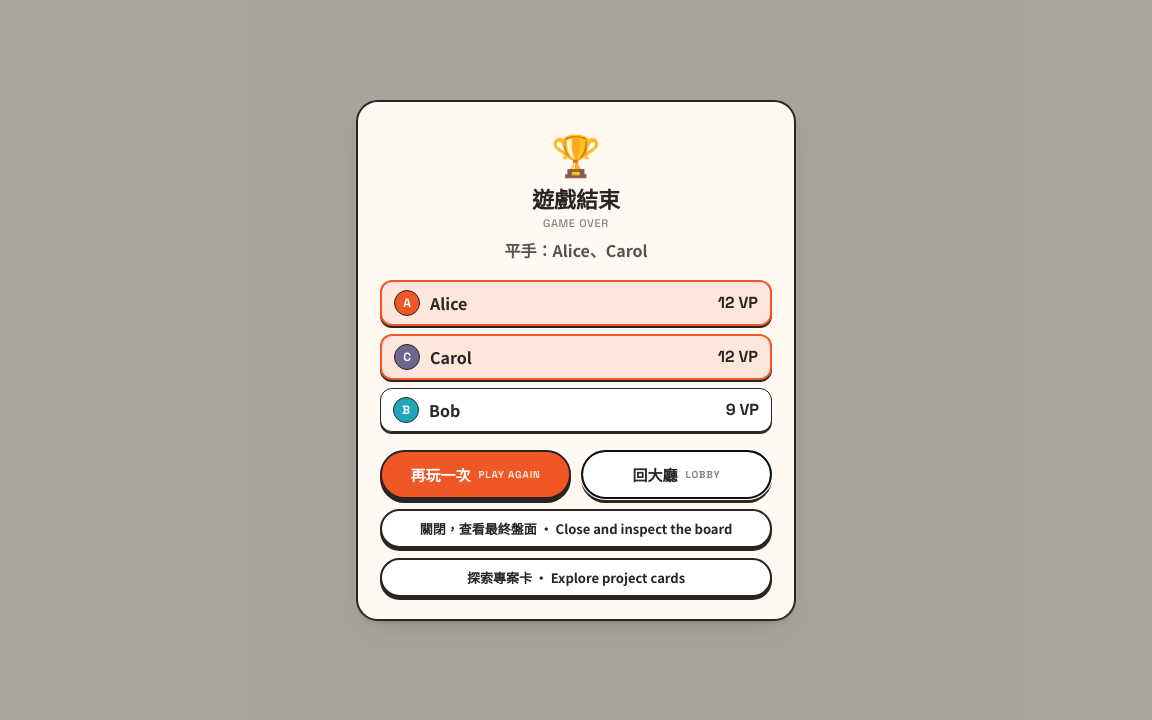
Test: GameOverDialog (#419 end-game modal) › a failed rematch shows the error and stays on the result
Step 1. Click the button with test id "play-again" → (476, 474), box [380,450,571,498]
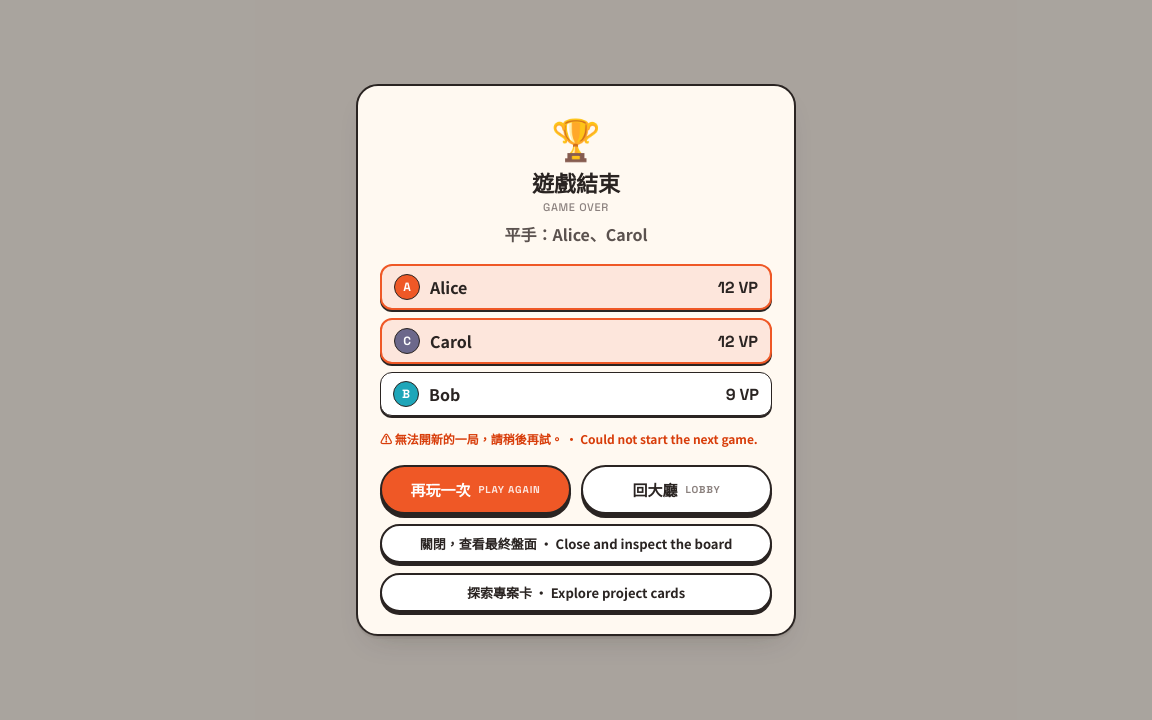
expect the message "⚠ 無法開新的一局，請稍後再試。 · Could not start the next game." is shown: met, box [380,430,772,447]
